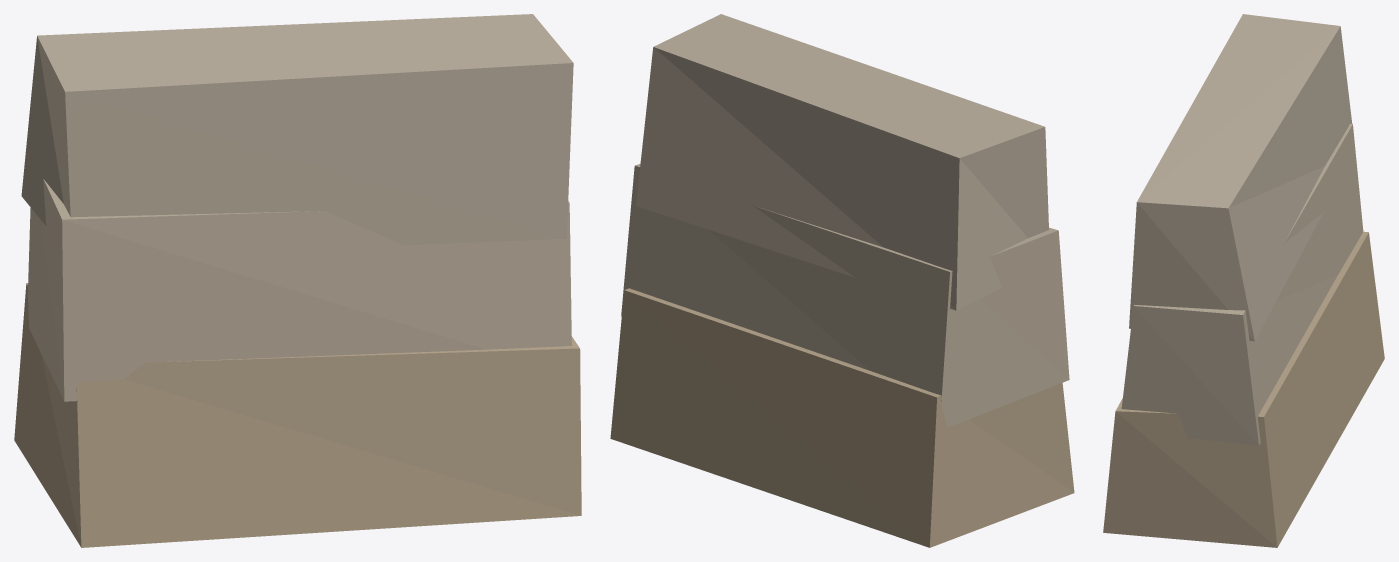
Rendered from farm_-20_-31_mid.glb.
3 renders of one model, left to right at view 1: azimuth 30°, elevation 25°; view 2: azimuth 150°, elevation 25°; view 3: azimuth 270°, elevation 25°, orthographic. The views are drawn at different scales.
Visible parts, largest first — view 1: geometry_0; view 2: geometry_0; view 3: geometry_0.
Part boxes in pixels (left/top/right/bottom): geometry_0: left=14, top=14, right=581, bottom=547; geometry_0: left=610, top=14, right=1074, bottom=547; geometry_0: left=1103, top=14, right=1384, bottom=547.
Size of the model in its own units: 1.71 by 1.55 by 1.1.
